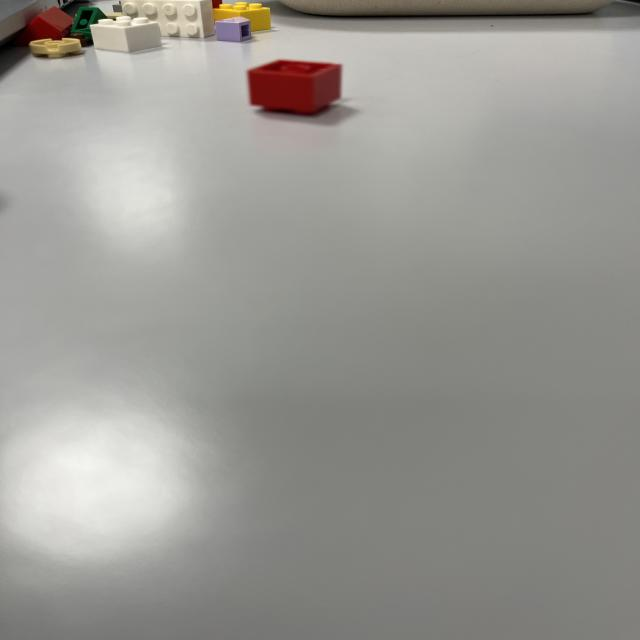C2x2x1: (248, 57, 344, 117)
